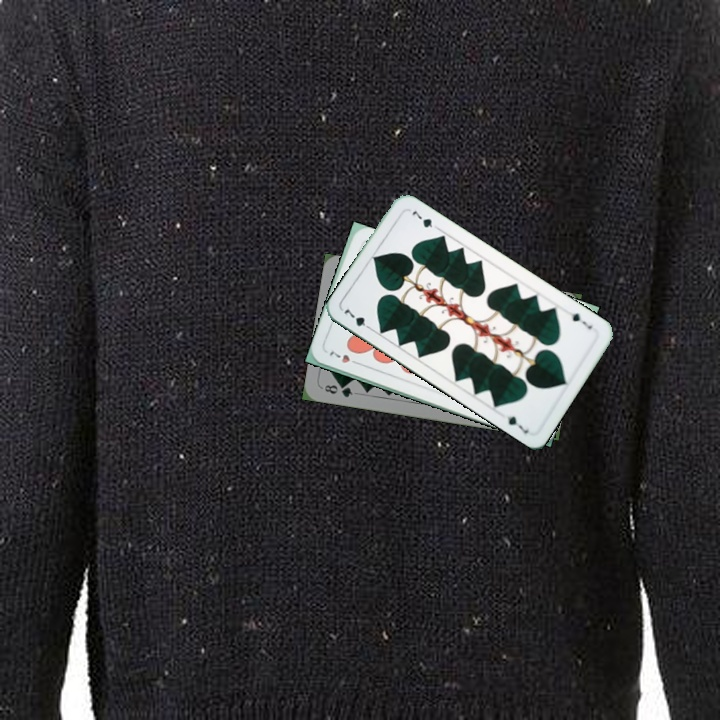G7: (340, 305, 375, 333), (564, 307, 595, 331)
G8: (318, 381, 355, 400)
H7: (325, 347, 363, 368)
